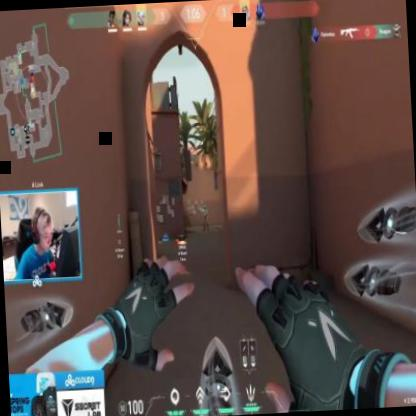enemy: (200, 203, 208, 231)
enemy_head: (204, 204, 206, 209)
